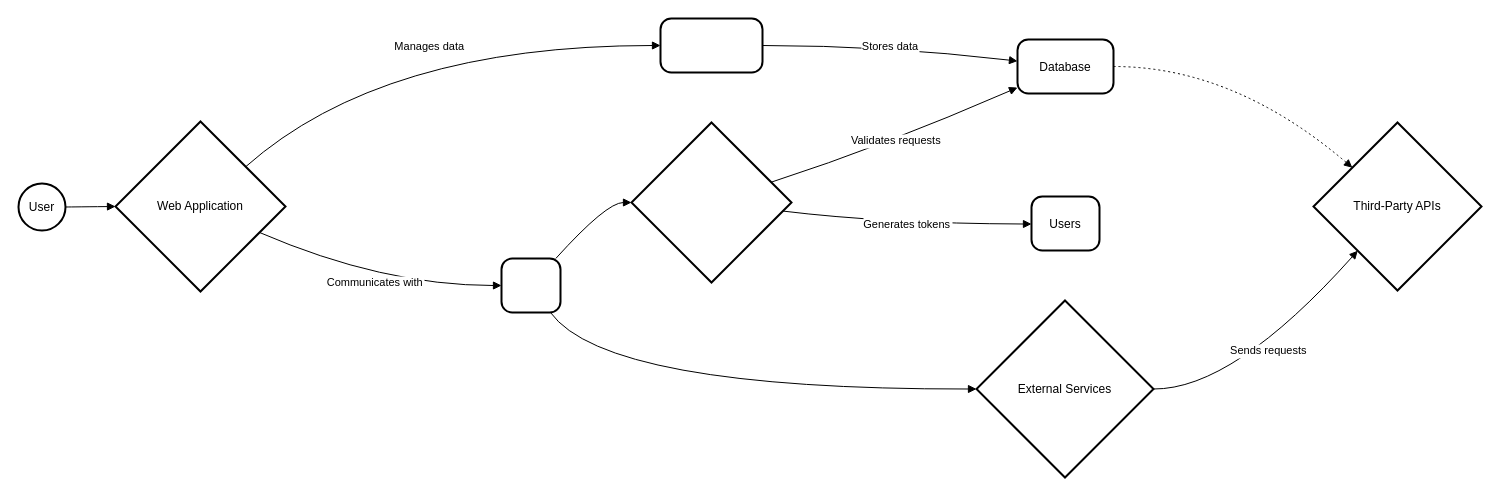
Image size: 1499x495. Some labels were removed from this diagram. The shapes that lost their labels are listed below. From the top down, each one's centre as x and y in pixels, then its label:
the point at 711,45: Databases
the point at 711,202: Authentication
the point at 530,285: APIs
